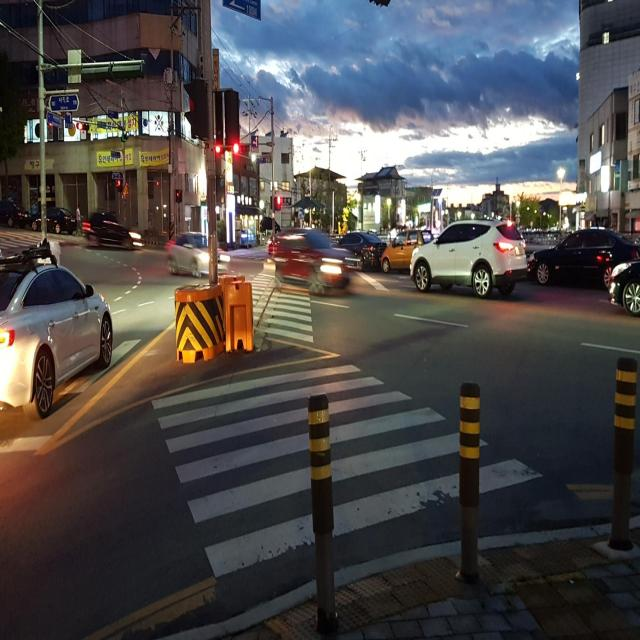빨간불: (276, 192, 282, 215)
횡단보도: (150, 363, 544, 580), (241, 269, 322, 342)
